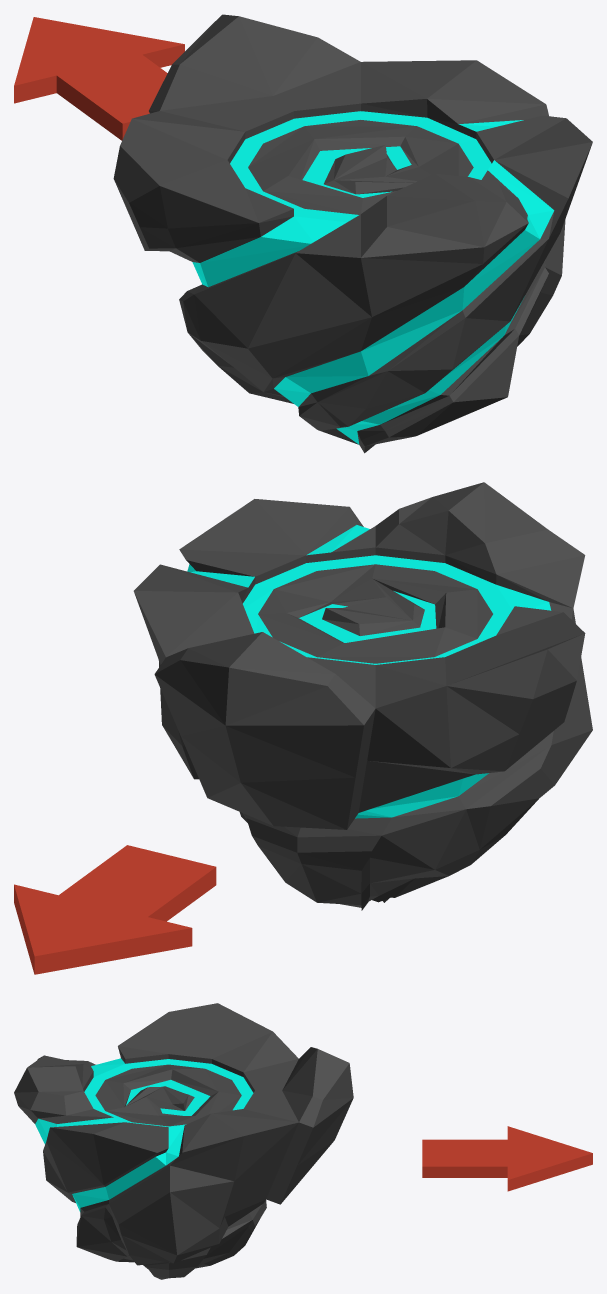
The model's file is Horizontal_Platform_Fantasy.glb.
3 renders of one model, top to bottom at view 1: azimuth 30°, elevation 25°; view 2: azimuth 150°, elevation 25°; view 3: azimuth 270°, elevation 25°, orthographic. The views are drawn at different scales.
Visible parts, largest first — view 1: Fantasy_Platform_01, Plane.002; view 2: Fantasy_Platform_01, Plane.002; view 3: Fantasy_Platform_01, Plane.002.
Boxes of the visible parts, left/top/right/bottom form: Fantasy_Platform_01: left=113, top=14, right=592, bottom=453; Plane.002: left=14, top=17, right=184, bottom=140; Fantasy_Platform_01: left=133, top=482, right=592, bottom=910; Plane.002: left=14, top=845, right=216, bottom=974; Fantasy_Platform_01: left=14, top=1003, right=353, bottom=1279; Plane.002: left=422, top=1126, right=592, bottom=1191.
Bounding box in the file's own units: 1.71 × 1.35 × 3.13.
2 materials, 2 textured.
